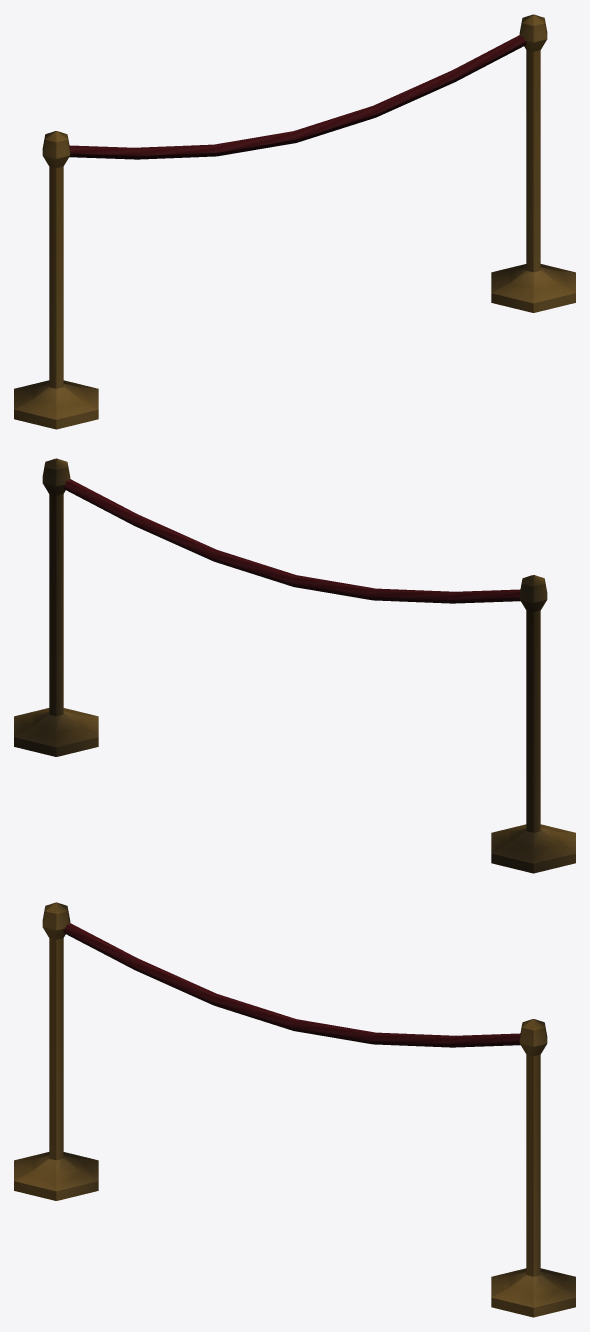
The model's file is level_castle_museum_rope.glb.
3 renders of one model, top to bottom at view 1: azimuth 30°, elevation 25°; view 2: azimuth 150°, elevation 25°; view 3: azimuth 330°, elevation 25°, orthographic.
Parts seen in each view (by area): view 1: Retained museum velvet barrier; view 2: Retained museum velvet barrier; view 3: Retained museum velvet barrier.
Boxes of the visible parts, x1,y1,x2,y2 form: Retained museum velvet barrier: (14,14,575,429); Retained museum velvet barrier: (14,458,575,873); Retained museum velvet barrier: (14,902,575,1317).
Bounding box in the file's own units: 2.12 × 1 × 0.2771.
Materials: 2 (2 with a texture image).
